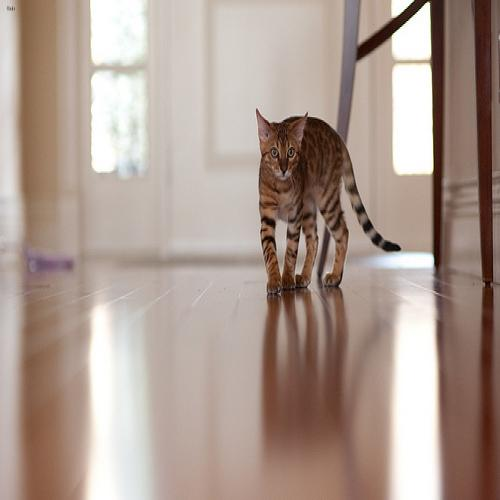cat-face: (253, 106, 311, 187)
